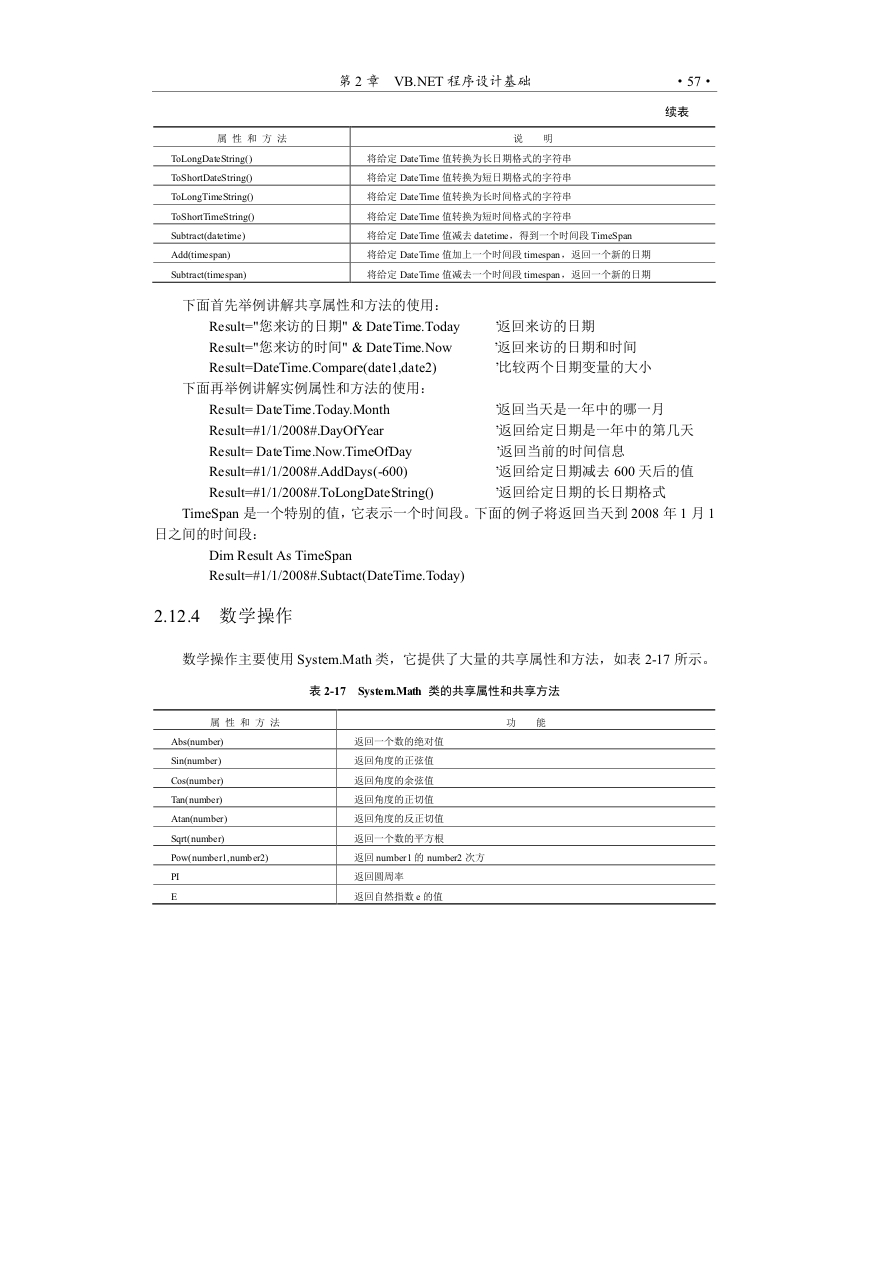table: (152, 709, 715, 905), (152, 126, 715, 283)
